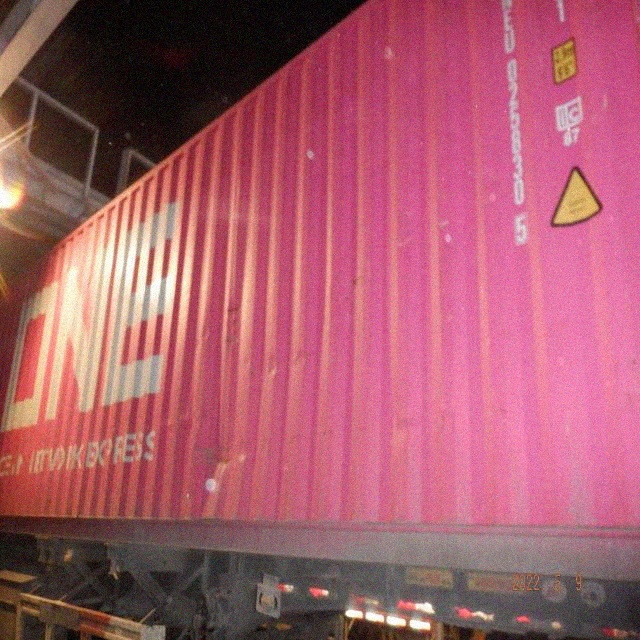Dent: (160, 248, 320, 519), (387, 383, 410, 455), (234, 175, 243, 203)
